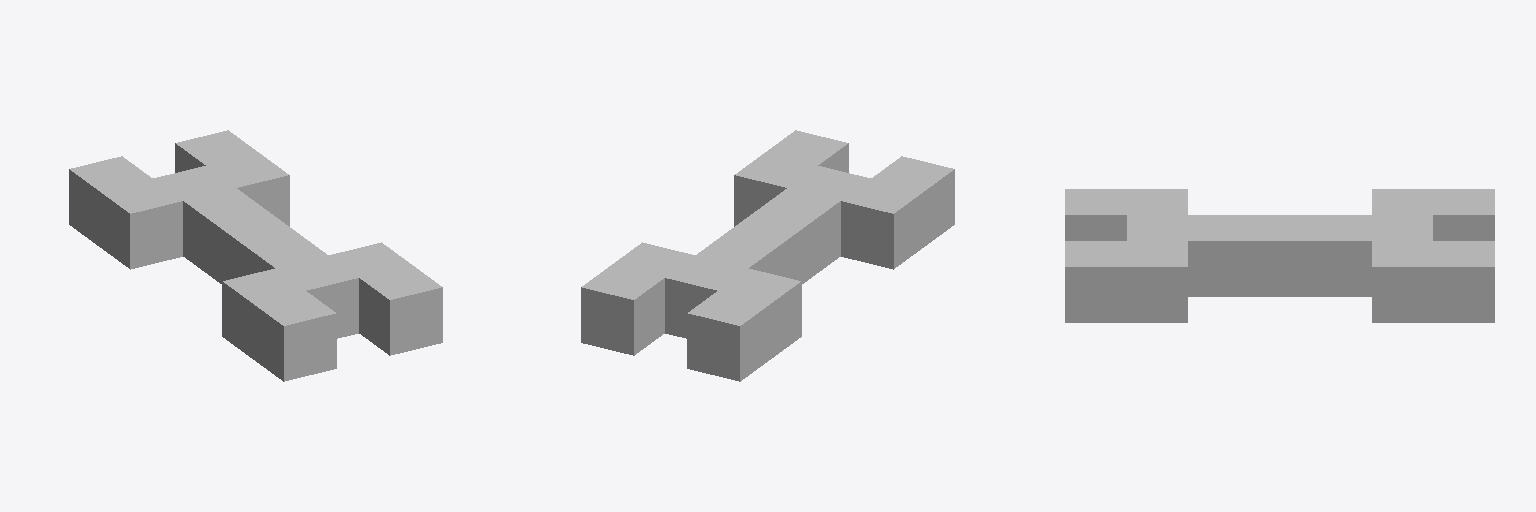
Rendered from obj-wrench.obj.
3 views of the same model, side by side, from view 1: azimuth 30°, elevation 25°; view 2: azimuth 150°, elevation 25°; view 3: azimuth 270°, elevation 25° (orthographic).
Parts seen in each view (by area): view 1: wrench; view 2: wrench; view 3: wrench.
Part boxes in pixels (bbox=[...]): wrench: bbox=[69, 130, 442, 381]; wrench: bbox=[581, 130, 954, 381]; wrench: bbox=[1065, 189, 1494, 322].
Bounding box in the file's own units: 0.3 × 0.1 × 0.7.